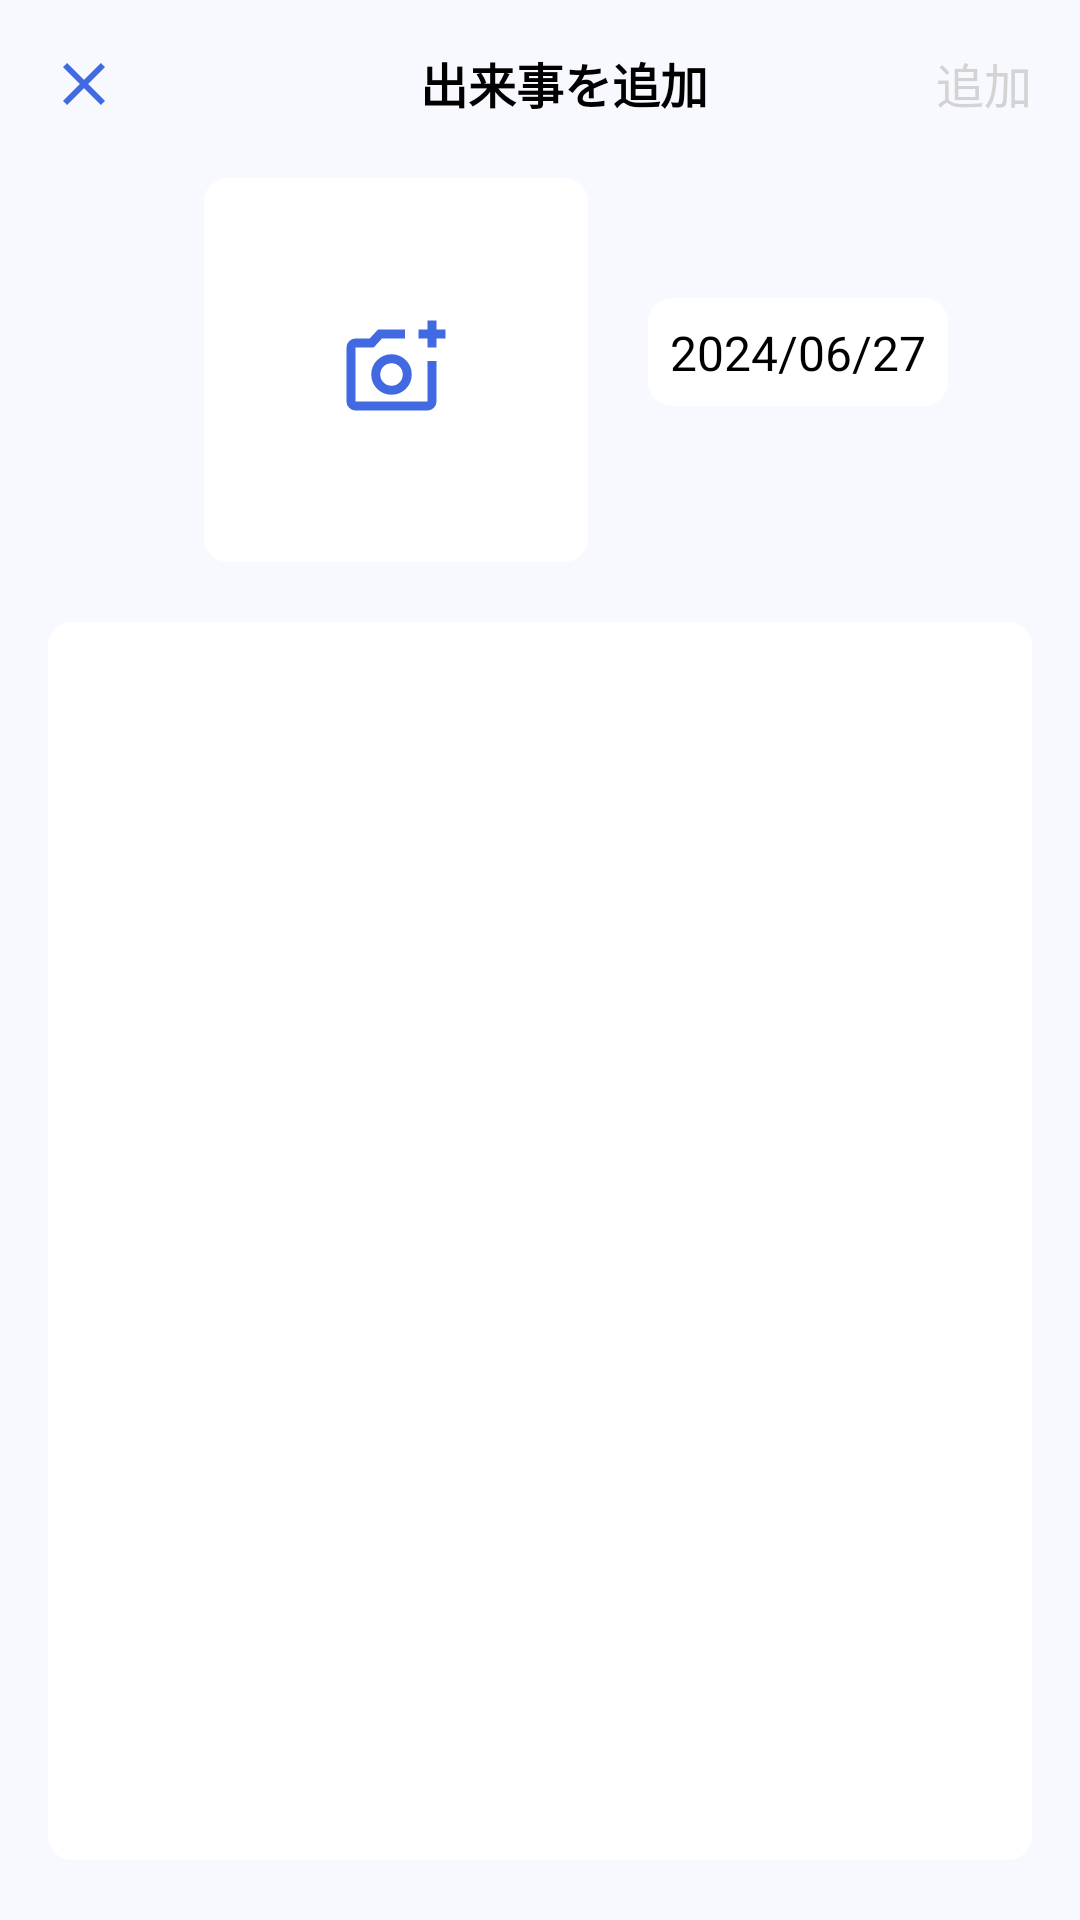

Icon click points for this 1080 × 1920 phone screenshot, format (x,y):
add photo ver: (396,365)
close: (84,84)
